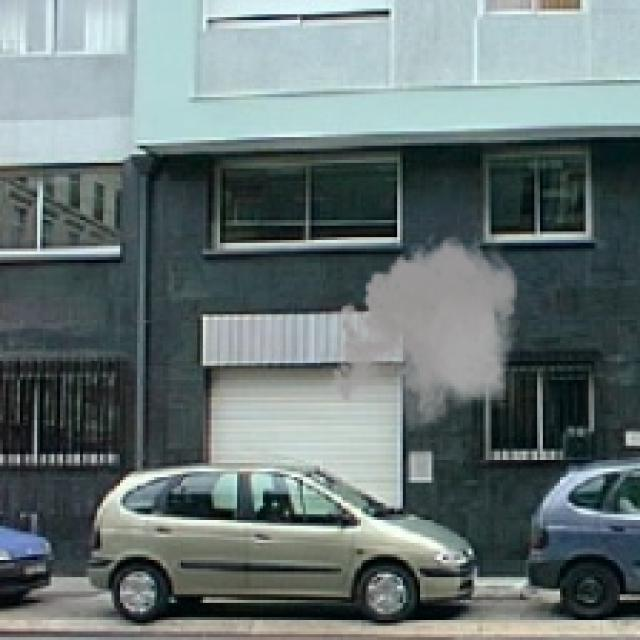Smoke: (326, 229, 526, 437)
